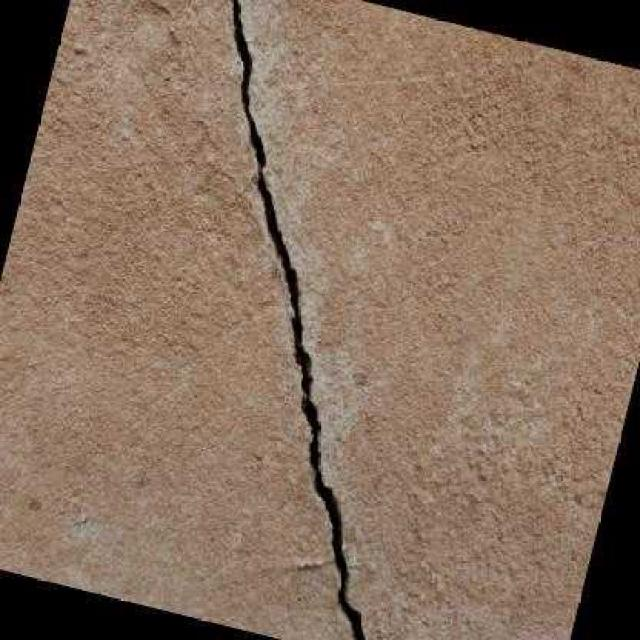D00: (231, 0, 367, 640)
